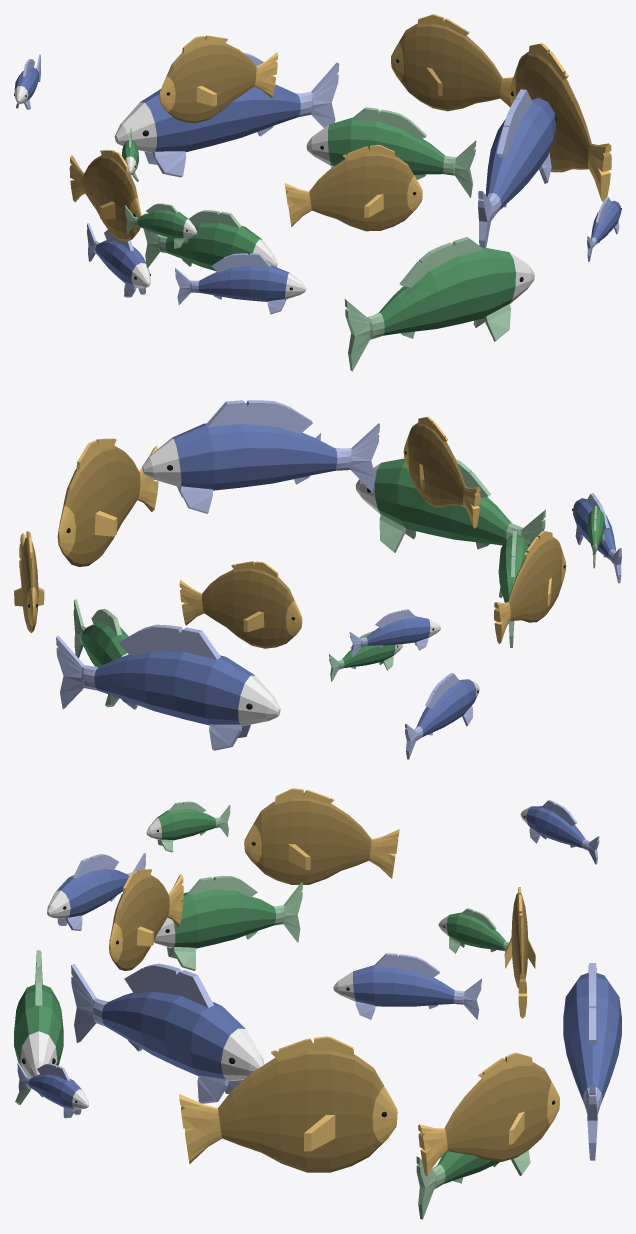
The model's file is Fishes shoal.fbx.
3 views of the same model, one above another, from view 1: azimuth 30°, elevation 25°; view 2: azimuth 150°, elevation 25°; view 3: azimuth 270°, elevation 25° (orthographic). The views are drawn at different scales.
Parts seen in each view (by area): view 1: Fishes shoal; view 2: Fishes shoal; view 3: Fishes shoal.
Boxes of the visible parts, <box> form: Fishes shoal: <box>14,14,621,371</box>; Fishes shoal: <box>14,400,621,759</box>; Fishes shoal: <box>14,788,621,1219</box>.
Size of the model in its own units: 4.55 by 1.79 by 4.39.
